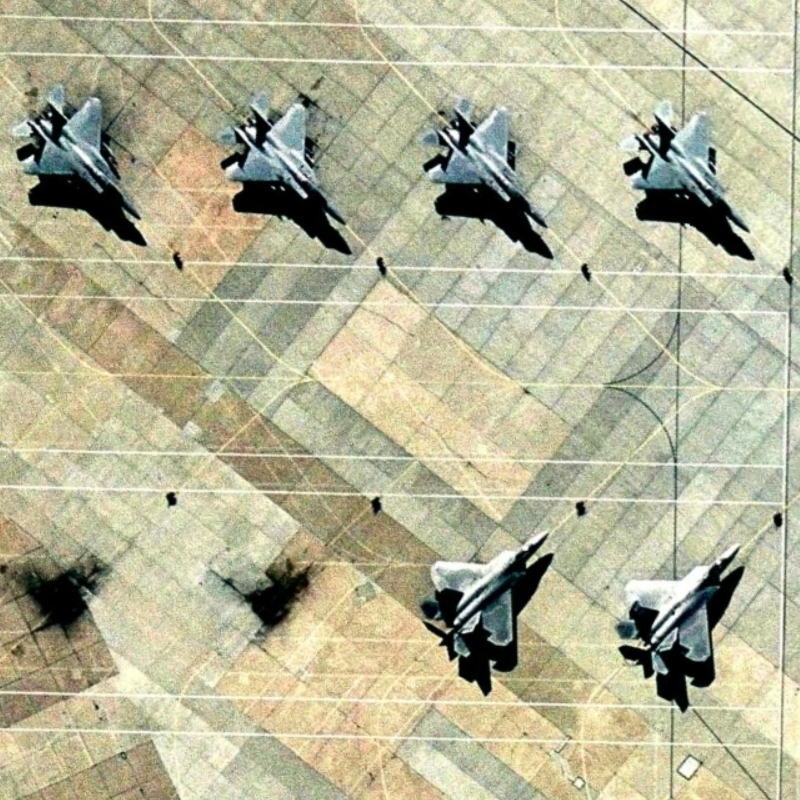A13: (6, 79, 154, 227), (413, 90, 556, 236), (210, 89, 353, 233), (607, 105, 754, 239)
A15: (411, 524, 559, 668), (607, 537, 749, 685)
